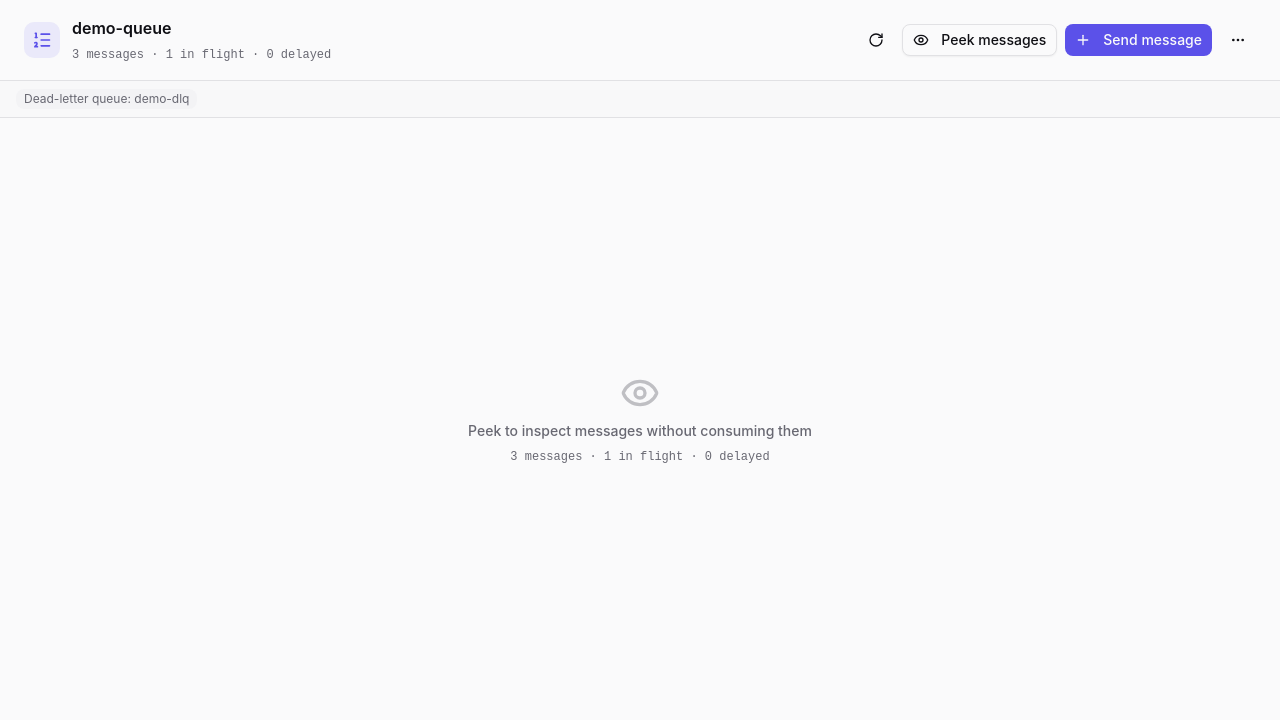
QueueView › purges queue via actions dropdown and confirm dialog
Press ArrowDown in the button named "Queue actions", box [1220, 22, 1256, 58]
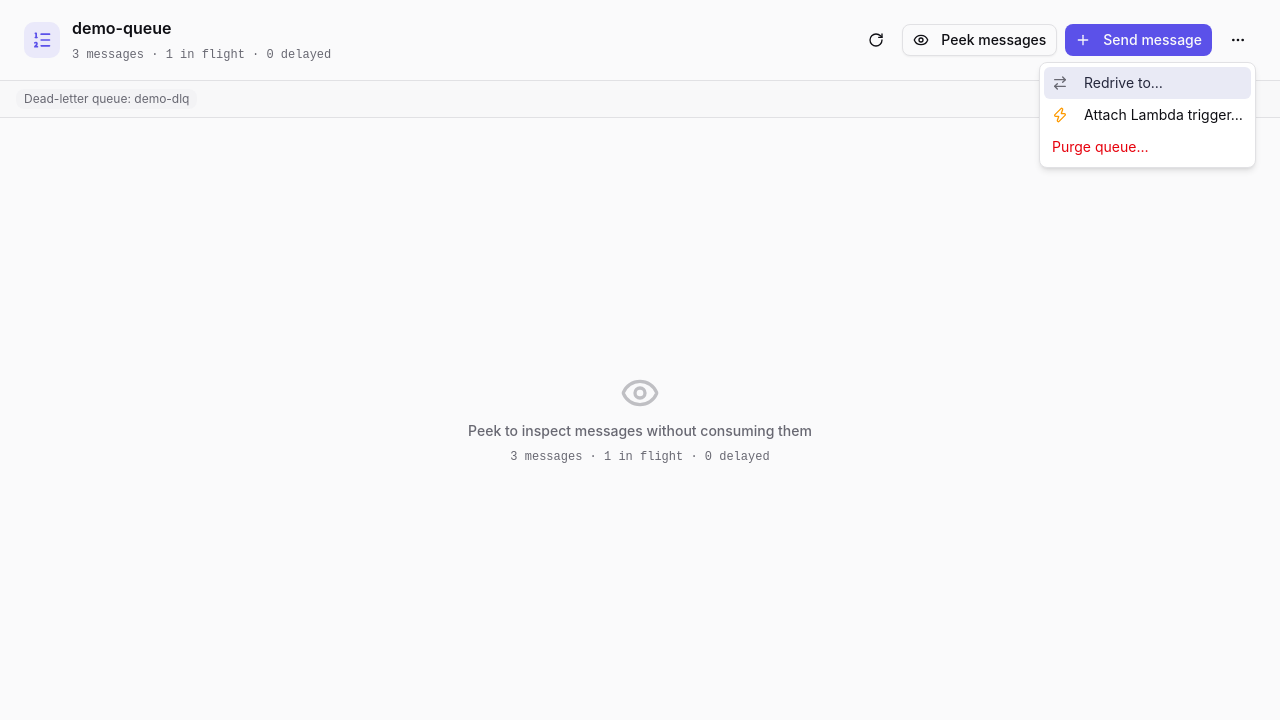
Click the menu item "Purge queue…": [1100, 146] box [1052, 138, 1148, 155]
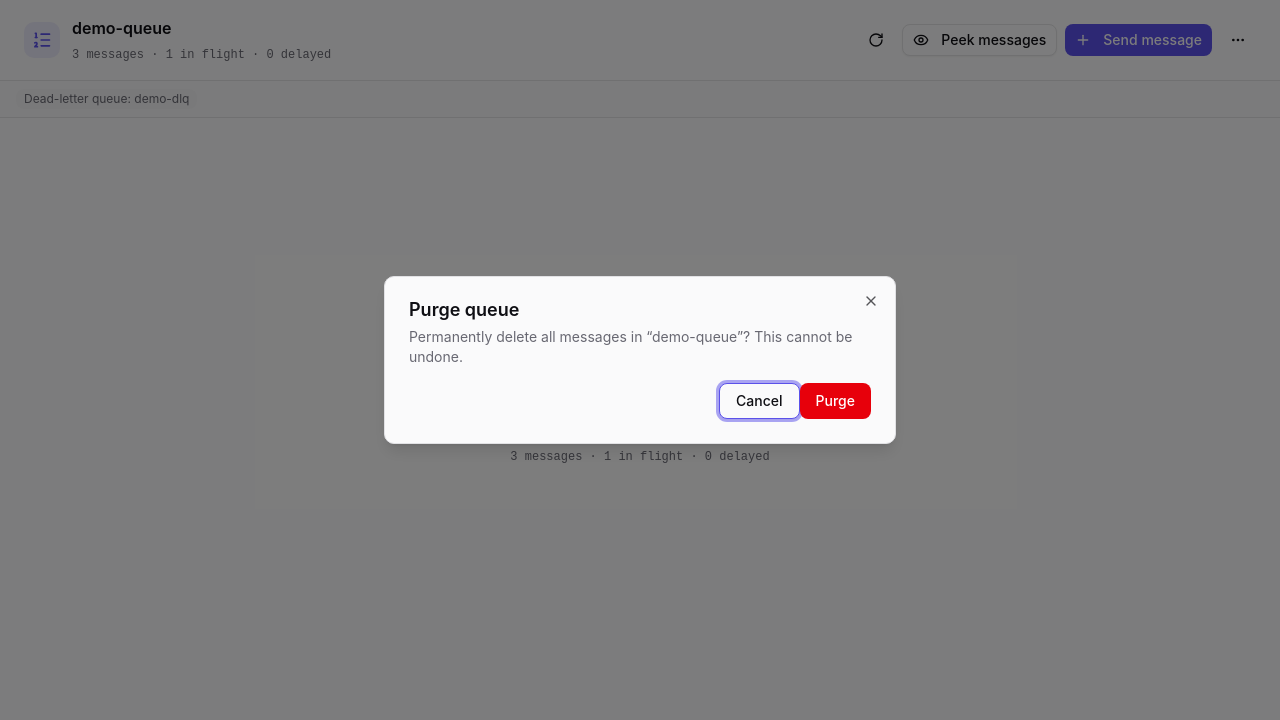
Expected: the heading "Purge queue" is shown, [409, 299, 519, 320]
Click the button "Purge": [835, 401] box [800, 383, 871, 419]
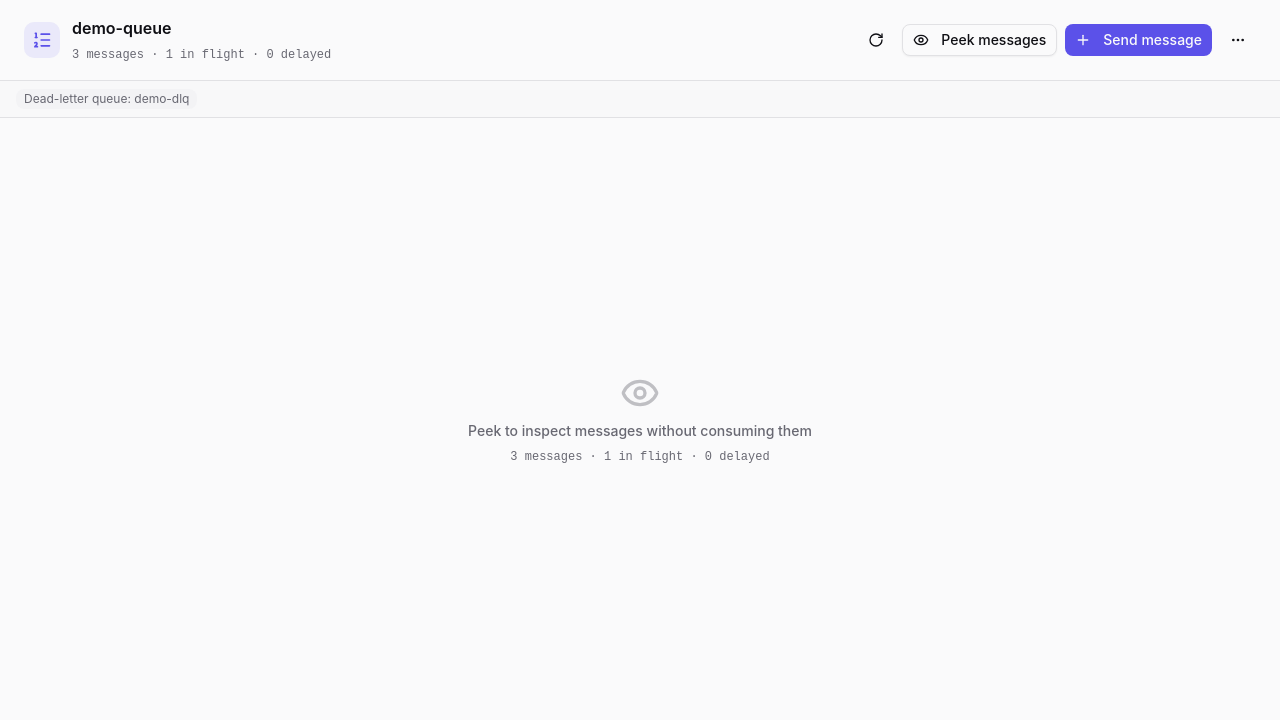
Expected: the dialog is gone
